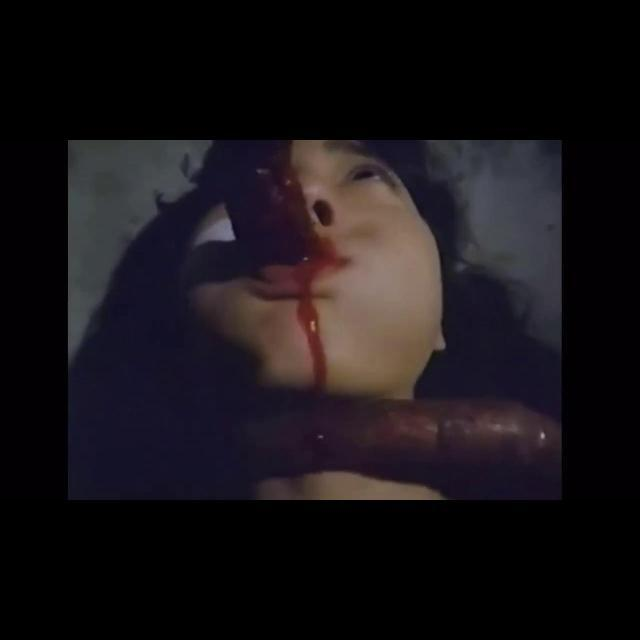blood: (298, 238, 350, 392)
